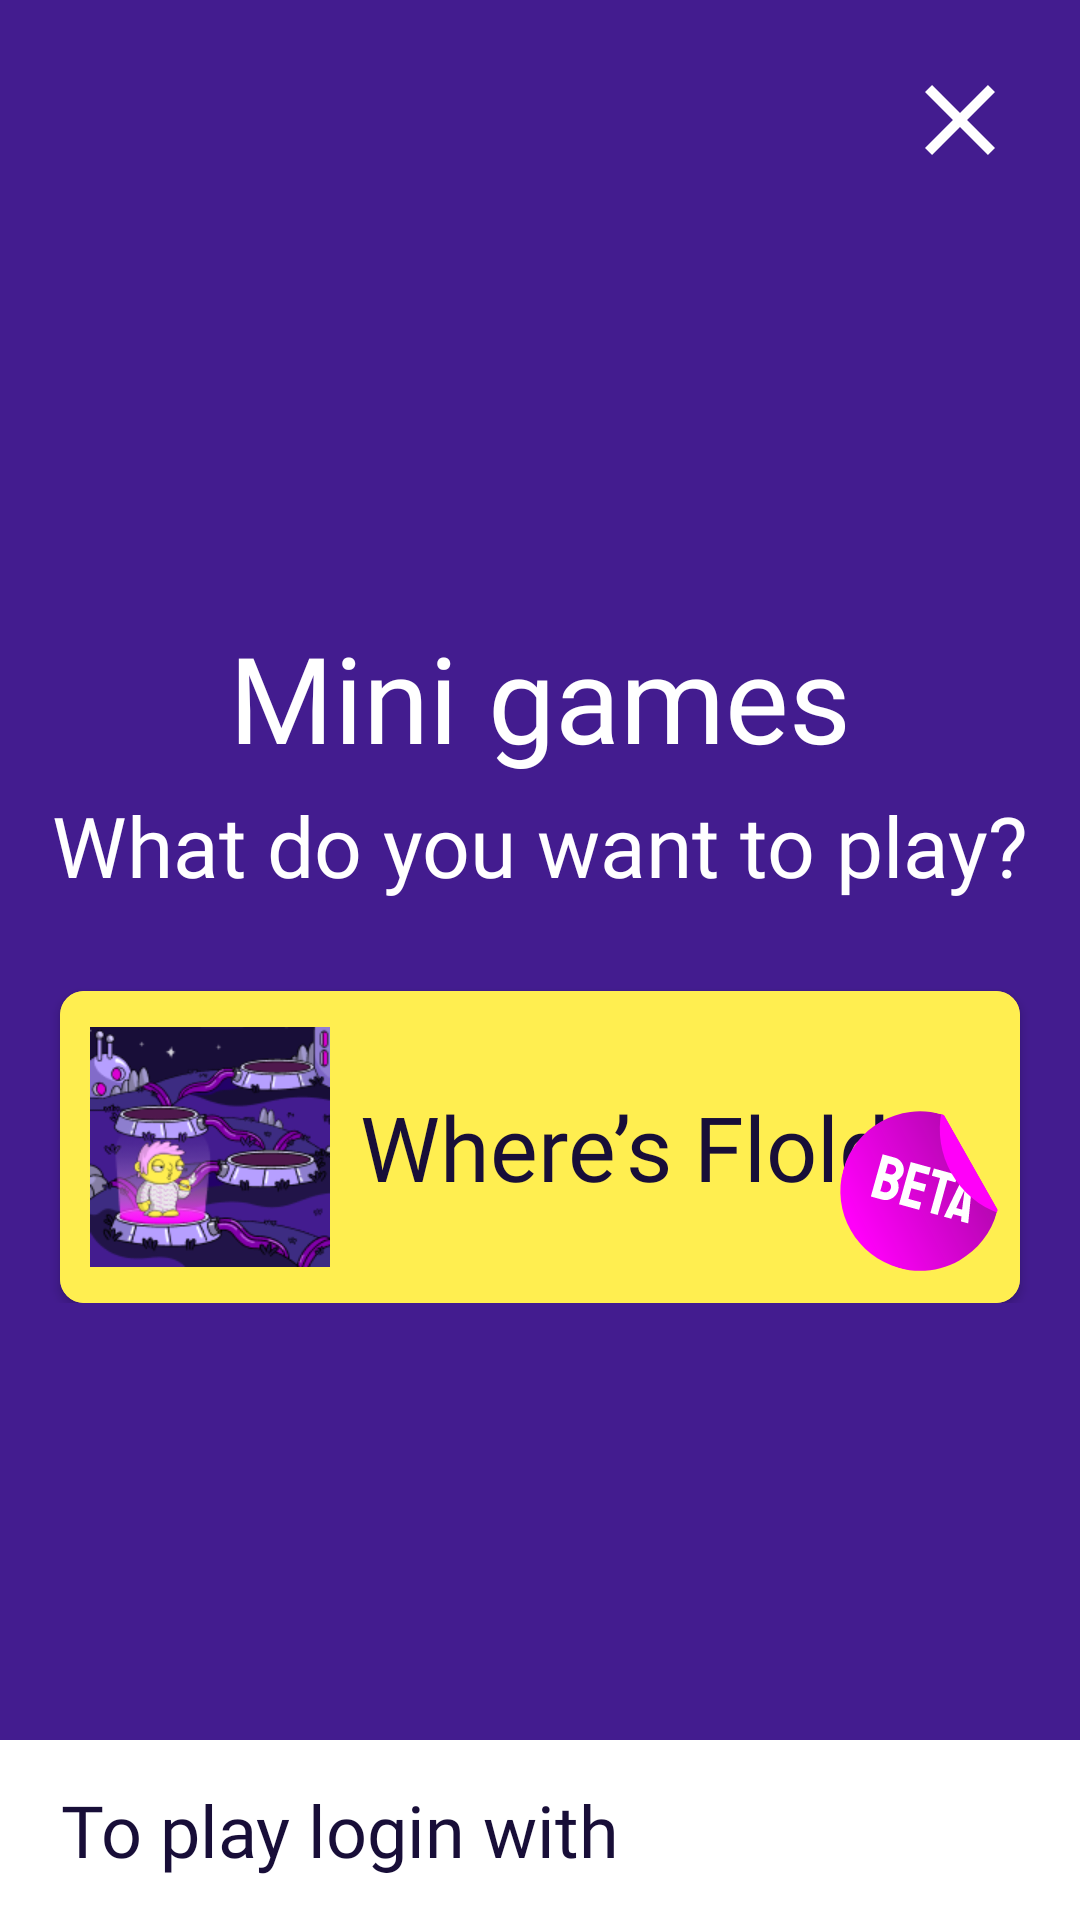

Where to tap for icons on this 1080x1920 app screen, as (x,y):
close: (960,120)
